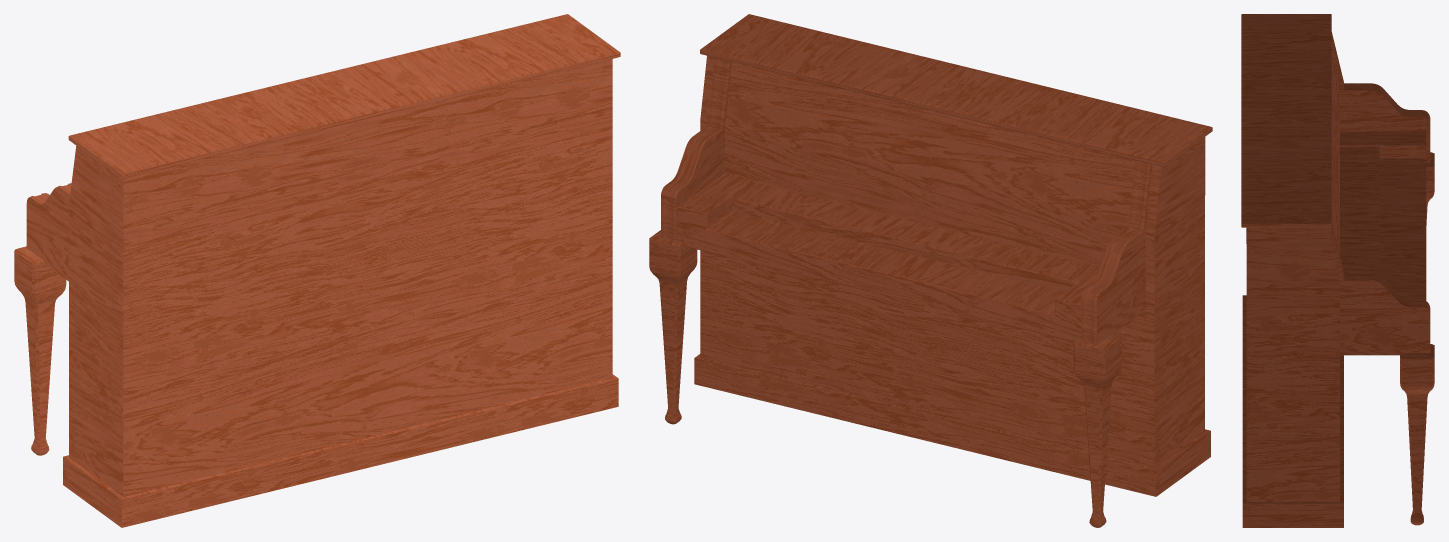
Rendered from Piano_843bee13.obj.
3 renders of one model, left to right at view 1: azimuth 30°, elevation 25°; view 2: azimuth 150°, elevation 25°; view 3: azimuth 270°, elevation 25°, orthographic. The views are drawn at different scales.
Parts seen in each view (by area): view 1: Piano_843bee13; view 2: Piano_843bee13; view 3: Piano_843bee13.
Part boxes in pixels (x1,y1,x2,y2): Piano_843bee13: (14,14,620,527); Piano_843bee13: (649,14,1212,527); Piano_843bee13: (1241,14,1434,527).
Size of the model in its own units: 1.58 by 1.09 by 0.6165.
